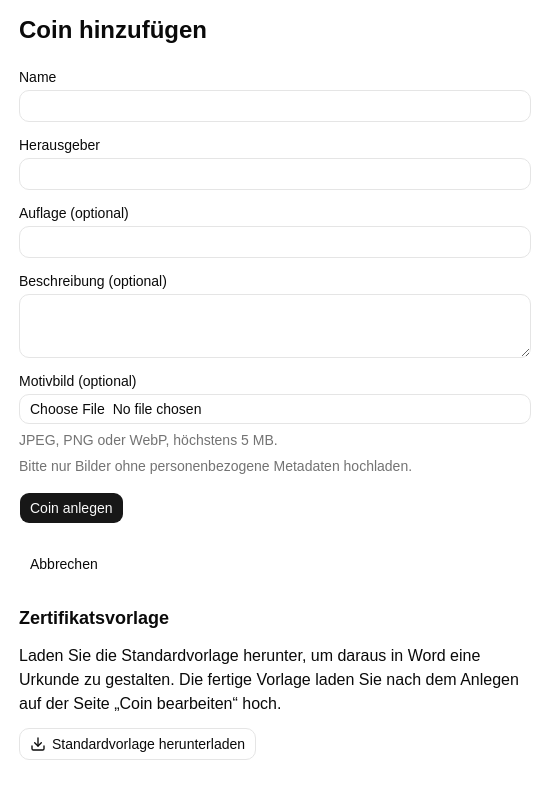
Scenario: Anlegen › meldet bei 409 den Konflikt und keinen angelegten Coin
Expected: the heading "Coin hinzufügen" is shown, [19,16,207,43]
Type "Coin Alpha" into the field labelled "Name" at (275, 106), box [19,90,531,122]
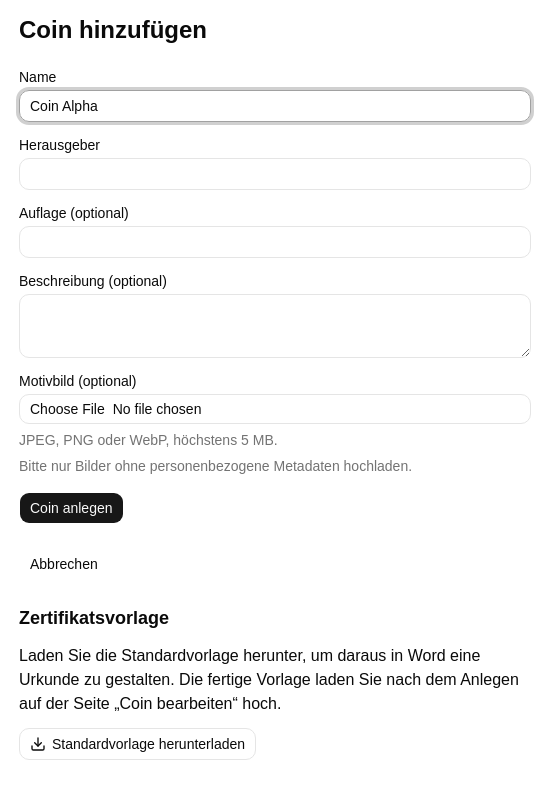
Type "Herausgeber Beta" into the field labelled "Herausgeber" at (275, 174), box [19,158,531,190]
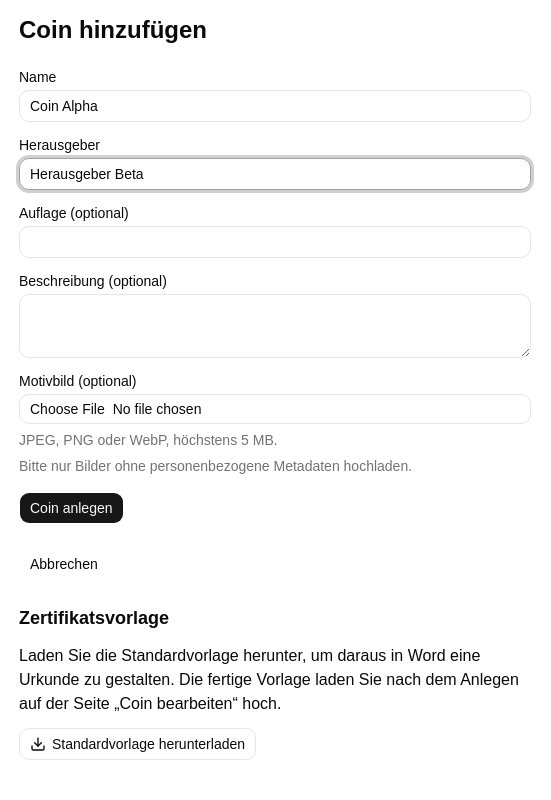
Click the button "Coin anlegen" at (71, 508), box [19,492,124,524]
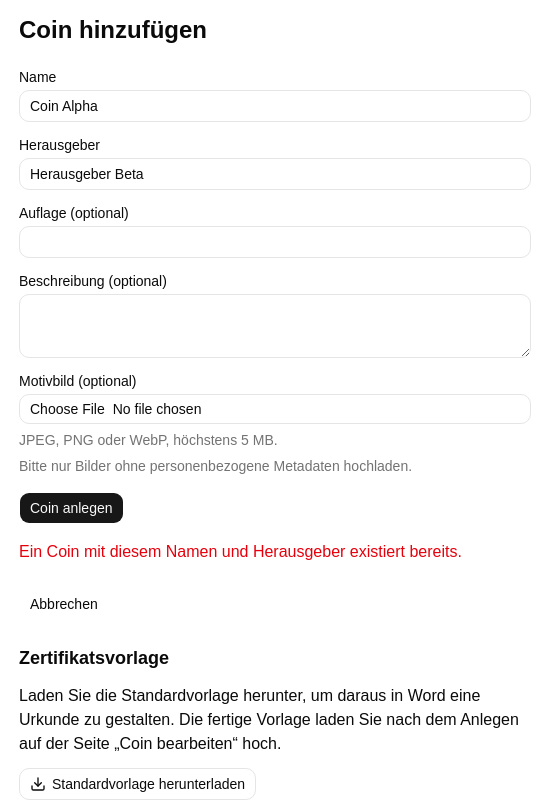
Expected: the message "Ein Coin mit diesem Namen und Herausgeber existiert bereits." is shown, [19,540,531,564]
